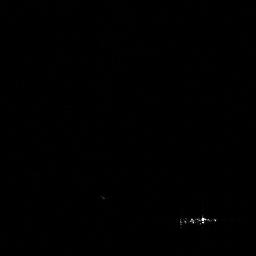ship: (180, 214, 216, 227)
